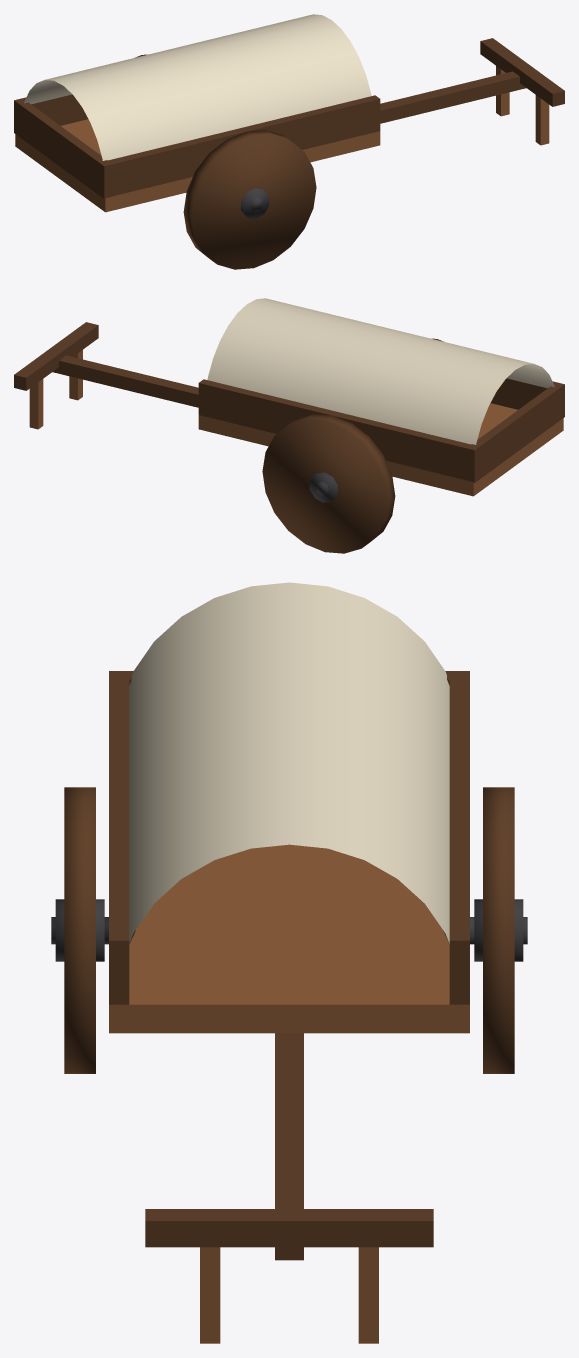
The model's file is wagon.glb.
3 renders of one model, top to bottom at view 1: azimuth 30°, elevation 25°; view 2: azimuth 150°, elevation 25°; view 3: azimuth 270°, elevation 25°, orthographic. The views are drawn at different scales.
Parts seen in each view (by area): view 1: wagon__n2_wood_dark, wagon__n2_canopy_cloth, wagon__n2_wood, wagon__n2_iron; view 2: wagon__n2_wood_dark, wagon__n2_canopy_cloth, wagon__n2_wood, wagon__n2_iron; view 3: wagon__n2_canopy_cloth, wagon__n2_wood, wagon__n2_wood_dark, wagon__n2_iron.
Part boxes in pixels (left/top/right/bottom): wagon__n2_wood_dark: left=14, top=38, right=564, bottom=269; wagon__n2_canopy_cloth: left=24, top=14, right=371, bottom=160; wagon__n2_wood: left=15, top=66, right=549, bottom=212; wagon__n2_iron: left=241, top=188, right=269, bottom=218; wagon__n2_wood_dark: left=14, top=322, right=564, bottom=553; wagon__n2_canopy_cloth: left=207, top=298, right=554, bottom=444; wagon__n2_wood: left=29, top=350, right=563, bottom=496; wagon__n2_iron: left=309, top=472, right=337, bottom=502; wagon__n2_canopy_cloth: left=129, top=582, right=449, bottom=943; wagon__n2_wood: left=109, top=844, right=469, bottom=1343; wagon__n2_wood_dark: left=64, top=671, right=514, bottom=1260; wagon__n2_iron: left=51, top=899, right=527, bottom=961.
Bounding box in the file's own units: 7.52 × 2.66 × 3.3.
